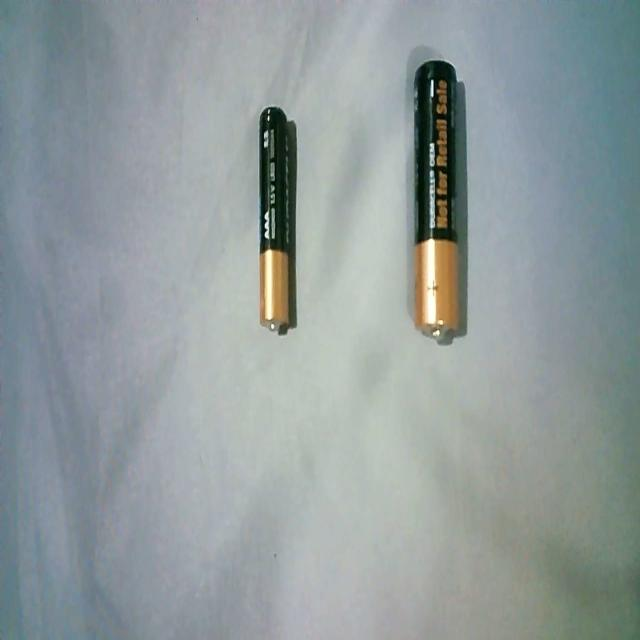AA: (408, 55, 466, 342)
AAA: (252, 100, 300, 340)
